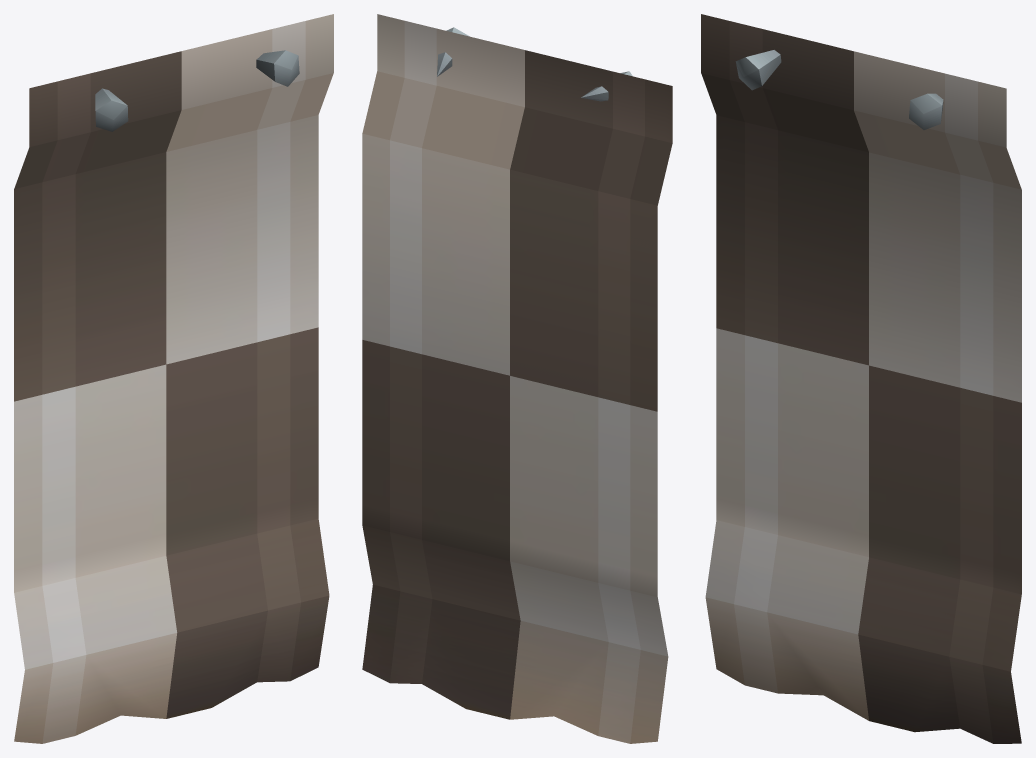
Rendered from banner_patterna_white.glb.
3 renders of one model, left to right at view 1: azimuth 30°, elevation 25°; view 2: azimuth 150°, elevation 25°; view 3: azimuth 330°, elevation 25°, orthographic. The views are drawn at different scales.
Parts seen in each view (by area): view 1: banner_patternA_white; view 2: banner_patternA_white; view 3: banner_patternA_white.
Part boxes in pixels (bbox=[...]): banner_patternA_white: bbox=[14, 14, 333, 743]; banner_patternA_white: bbox=[362, 14, 672, 743]; banner_patternA_white: bbox=[701, 14, 1021, 743].
Bounding box in the file's own units: 1.5 × 3.2 × 0.3117.
Materials: 1 (1 with a texture image).
